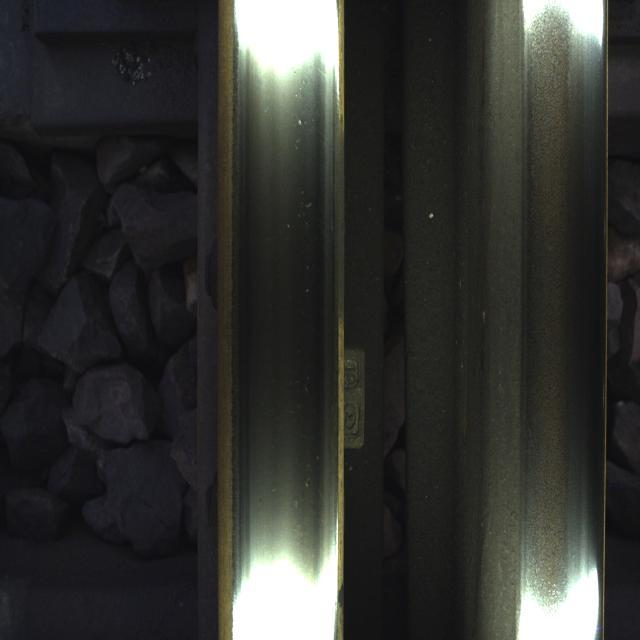break: (240, 42, 320, 556)
normal: (525, 11, 597, 510)
